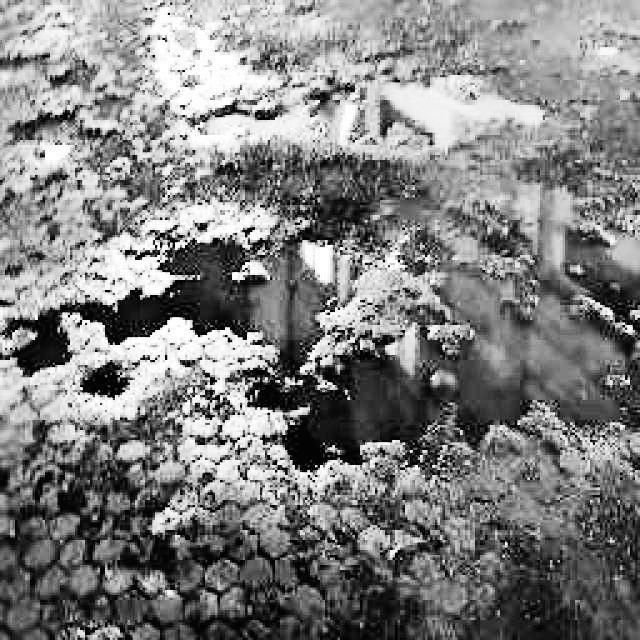Pothole: (5, 168, 640, 486), (176, 53, 560, 161)
